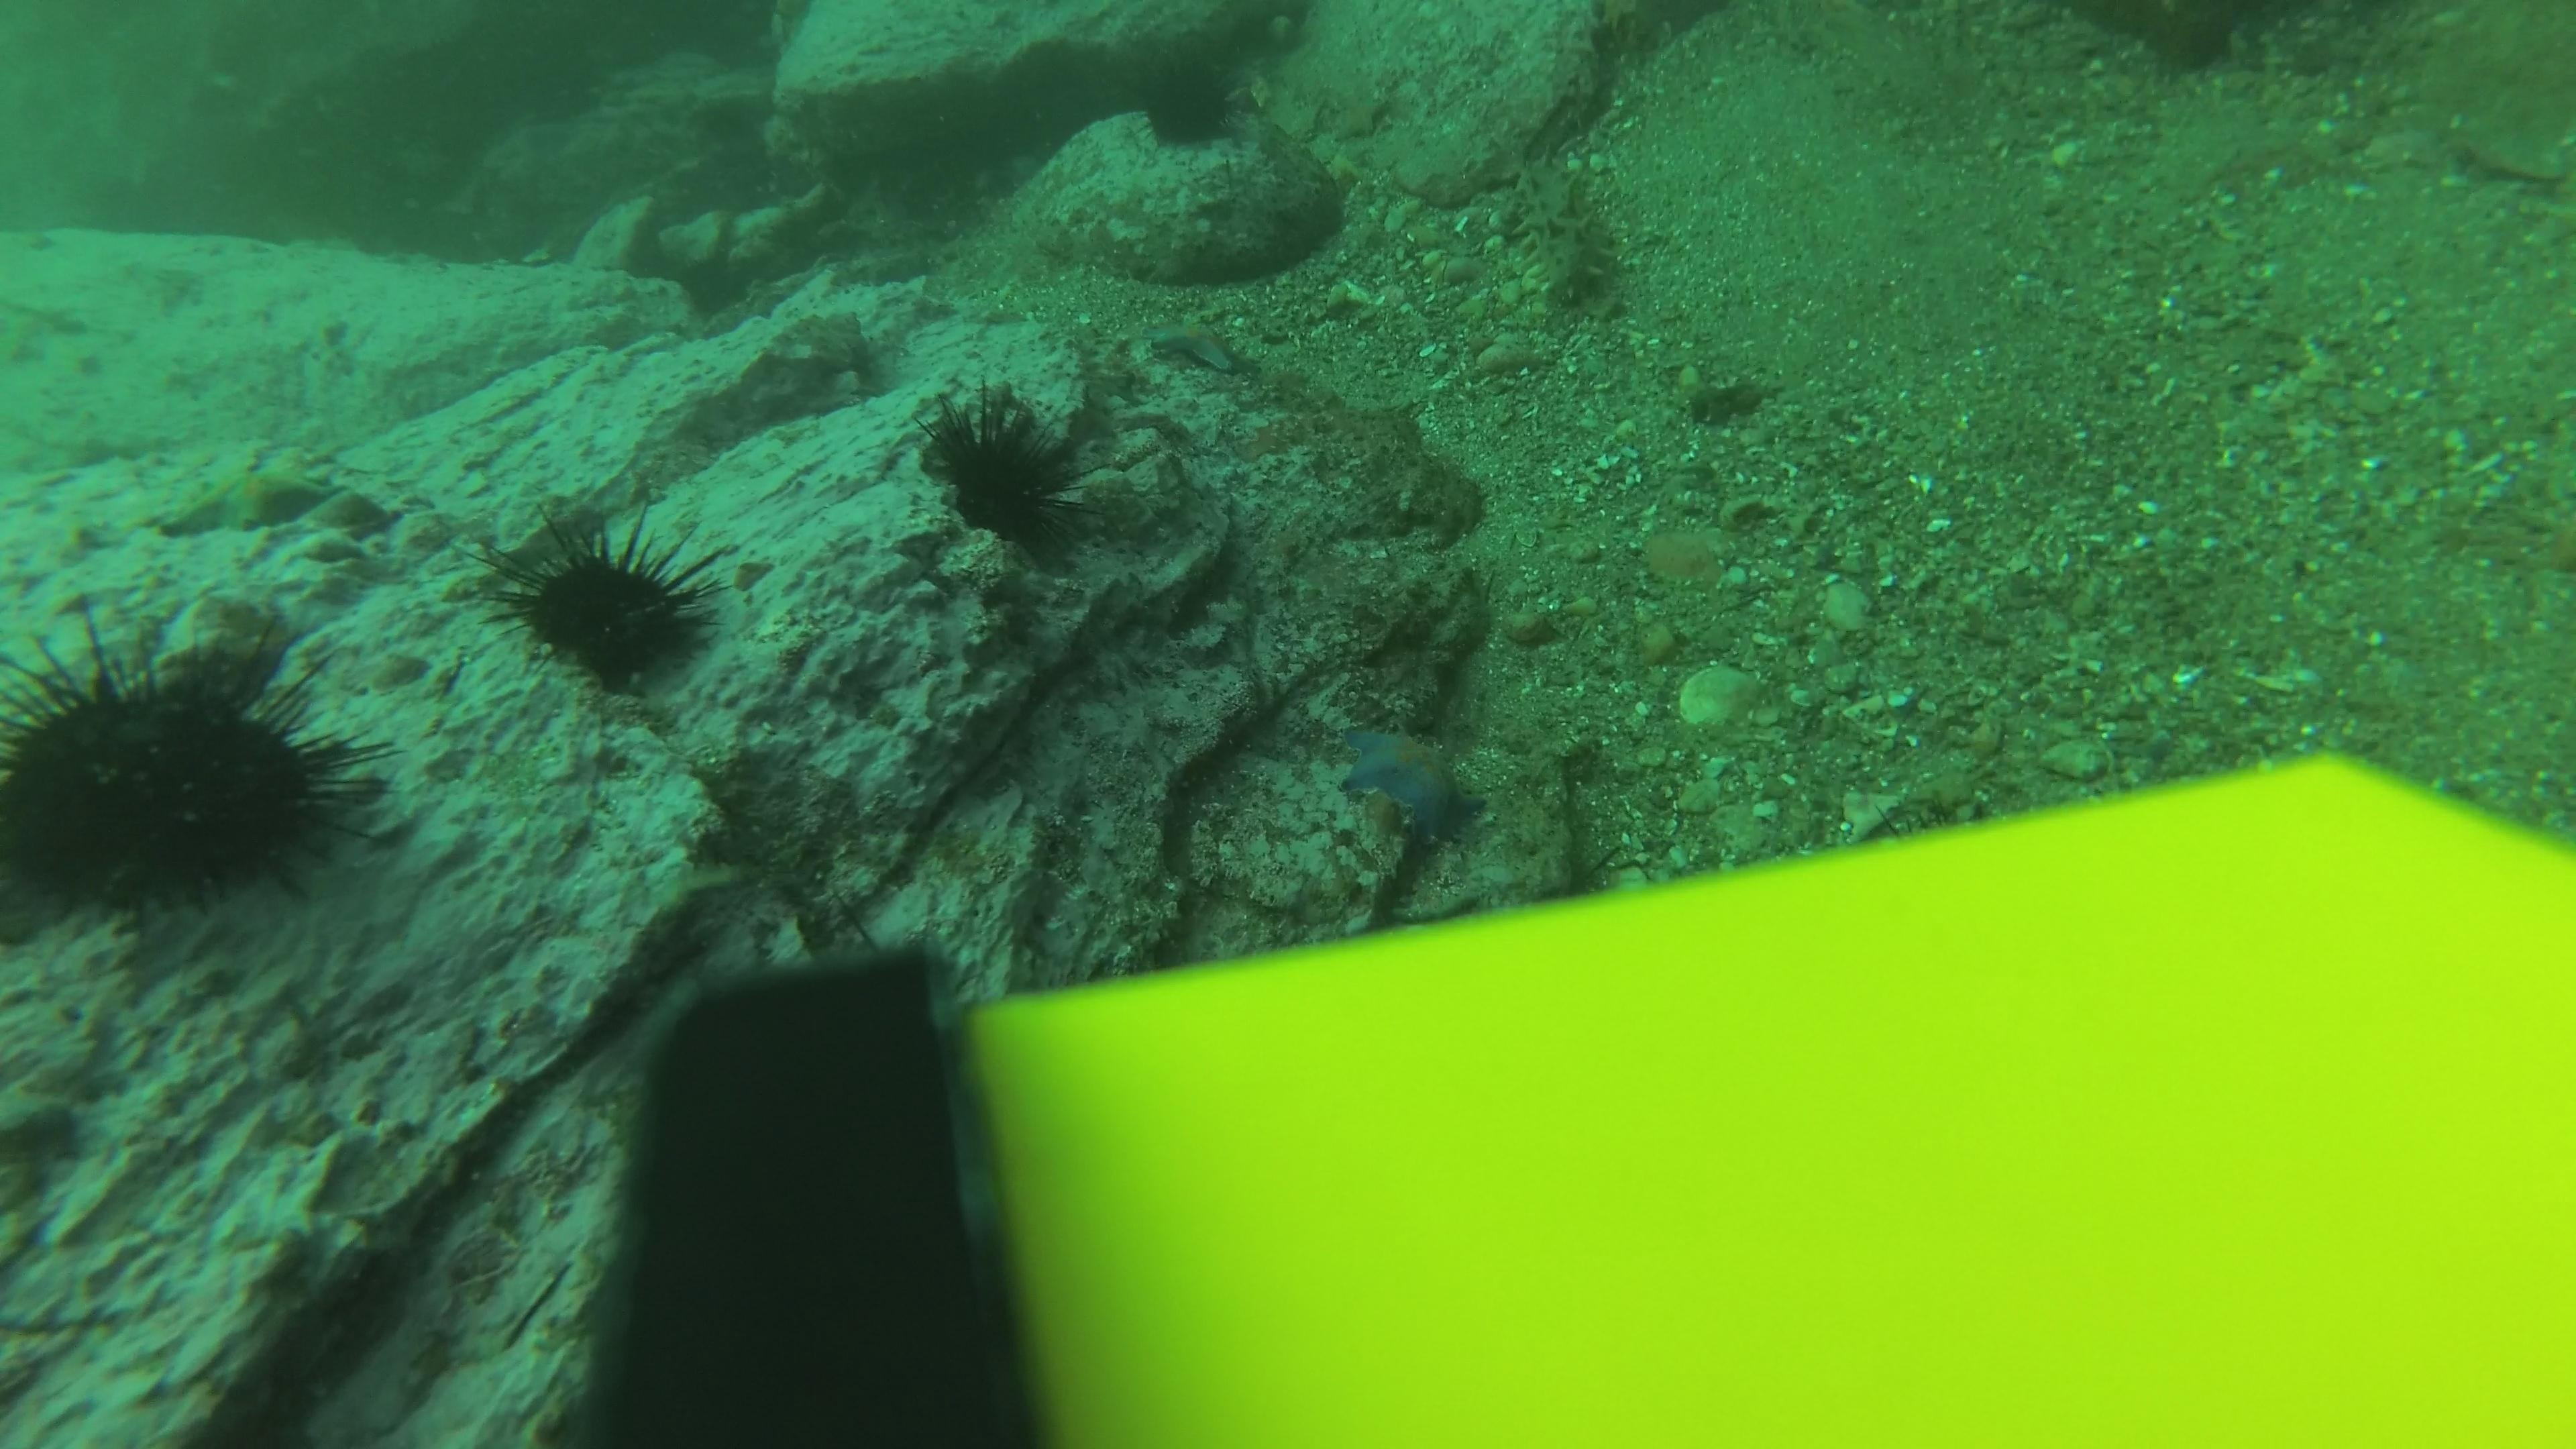echinus: (0, 607, 382, 924), (481, 504, 725, 695), (911, 384, 1095, 563), (1132, 53, 1249, 152)
holothurian: (1506, 147, 1633, 331)
starfish: (1332, 717, 1490, 849), (152, 462, 350, 540), (1141, 317, 1251, 377)
